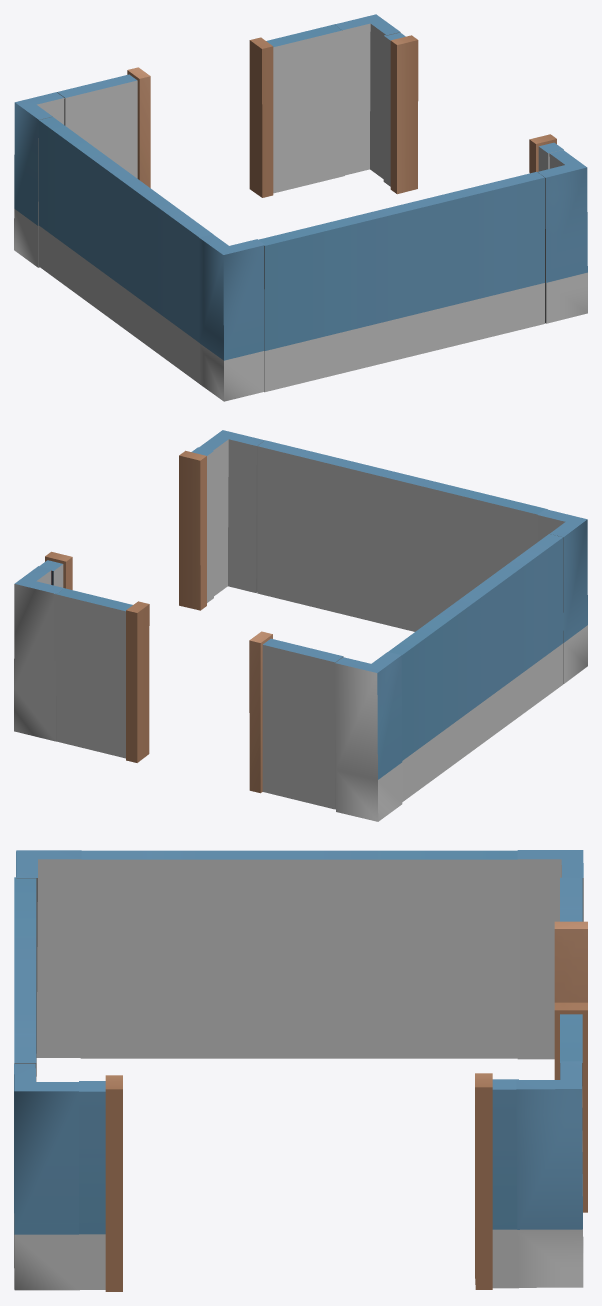
Rendered from GARAJE.fbx.
The picture shows the model from 3 angles, top to bottom: view 1: azimuth 30°, elevation 25°; view 2: azimuth 150°, elevation 25°; view 3: azimuth 270°, elevation 25°; orthographic projection. The views are drawn at different scales.
Visible parts, largest first — view 1: paret_basica26, paret_basica24, paret_puerta46, paret_esquina36, paret_esquina31, paret_garaje3, paret_esquina35, paret_esquina_74; view 2: paret_basica26, paret_puerta46, paret_basica24, paret_esquina_74, paret_esquina31, paret_esquina35, paret_garaje3, paret_esquina36; view 3: paret_basica24, paret_garaje3, paret_esquina35, paret_esquina31, paret_esquina36, paret_esquina_74, paret_puerta46, paret_basica26.
Part boxes in pixels (x1,y1,x2,y2): paret_basica26: (258,171,544,392); paret_basica24: (38,117,213,383); paret_puerta46: (57,24,344,197); paret_esquina36: (199,234,264,401); paret_esquina31: (537,150,587,323); paret_garaje3: (383,32,563,194); paret_esquina35: (334,14,400,178); paret_esquina_74: (14,92,64,267); paret_basica26: (257,440,547,631); paret_puerta46: (54,588,343,809); paret_basica24: (388,534,563,801); paret_esquina_74: (335,652,402,821); paret_esquina31: (199,430,264,595); paret_esquina35: (14,566,64,741); paret_garaje3: (39,447,213,610); paret_esquina36: (537,509,587,683); paret_basica24: (80,850,519,1058); paret_garaje3: (79,1073,518,1291); paret_esquina35: (516,1061,583,1287); paret_esquina31: (14,1063,79,1290); paret_esquina36: (16,850,81,1076); paret_esquina_74: (517,850,583,1059); paret_puerta46: (554,877,587,1212); paret_basica26: (14,877,36,1081).
Bounding box in the file's own units: 869 × 341 × 866.
